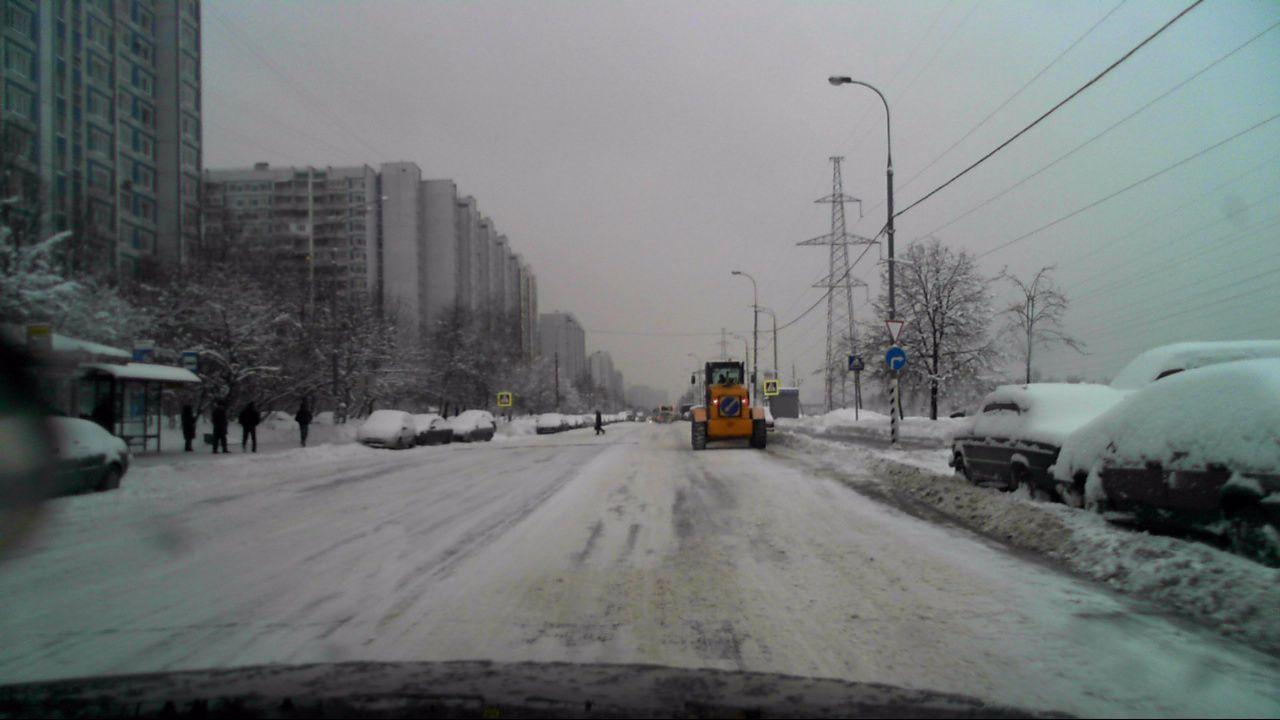road_sign: (885, 319, 905, 344), (885, 346, 905, 370), (763, 380, 780, 397), (497, 392, 512, 407)
